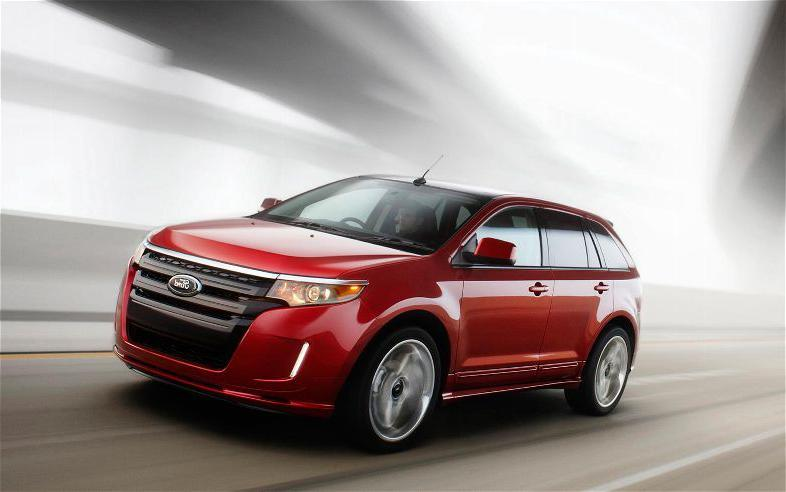Car: (78, 169, 651, 448)
